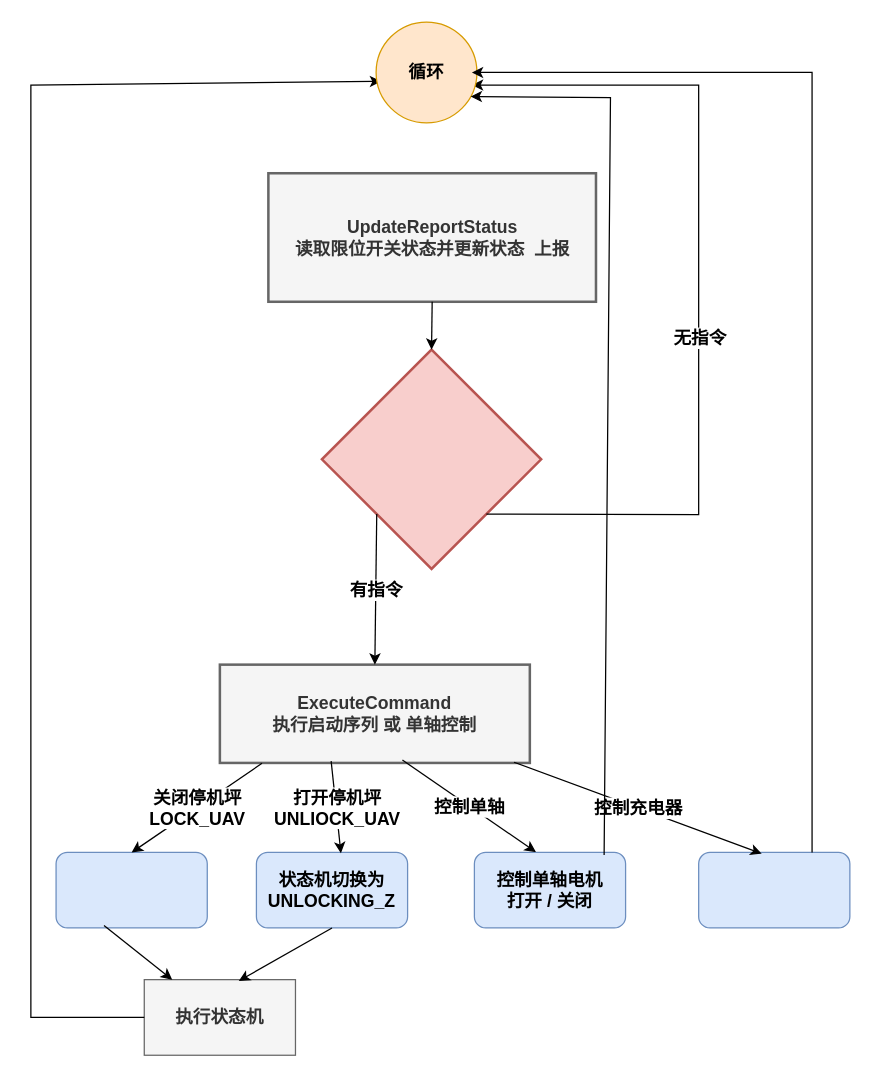
The diagram is 872 pixels wide and 1077 high, and some of its shapes have lost their labels. Here are the shapes that lost their labels. From the top down, the centre of each, then its label:
At pixel 431 459: "检查命令队列 是否有控制指令".
At pixel 131 889: "状态机切换为 LOCKING_X".
At pixel 773 889: "控制舵机 长按 / 短按".
